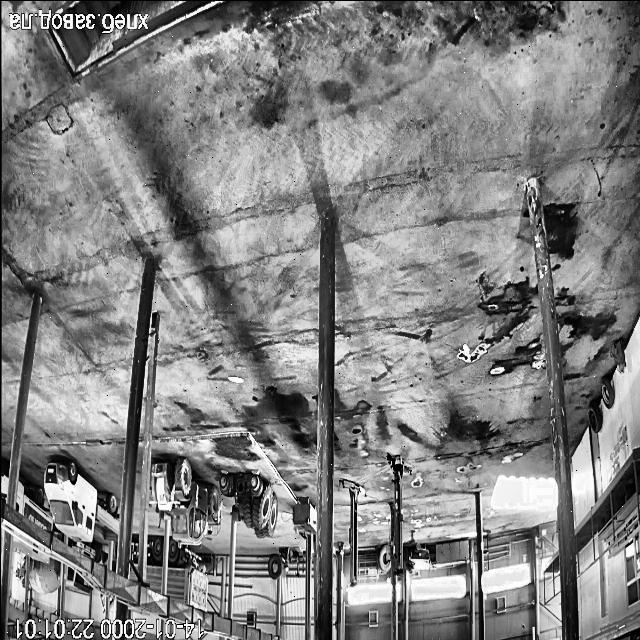class6: (152, 458, 220, 544), (220, 474, 278, 538)
class7: (44, 460, 119, 540), (167, 540, 208, 612), (16, 482, 52, 532), (28, 557, 60, 594), (146, 538, 163, 594), (12, 538, 48, 560), (69, 541, 103, 563), (66, 567, 91, 595), (0, 462, 8, 500), (132, 542, 141, 569), (129, 566, 135, 580), (20, 564, 24, 580)
tractor: (614, 340, 625, 372)
truck: (387, 454, 410, 573), (340, 479, 365, 587)
